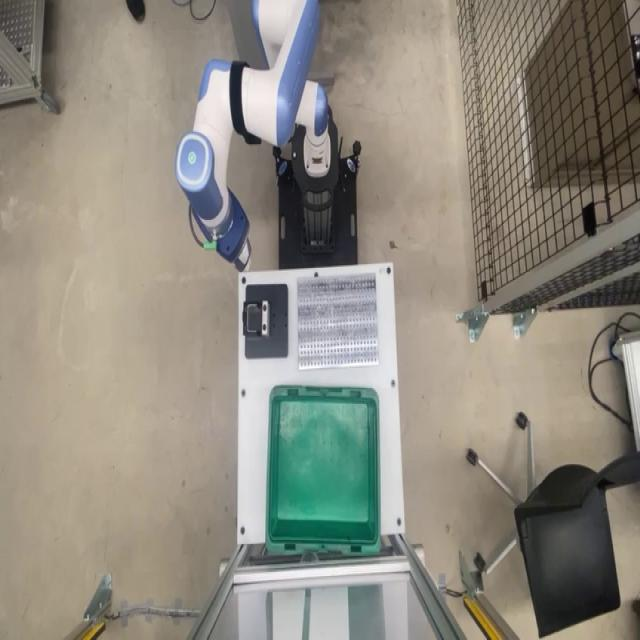robot: (174, 0, 362, 272)
